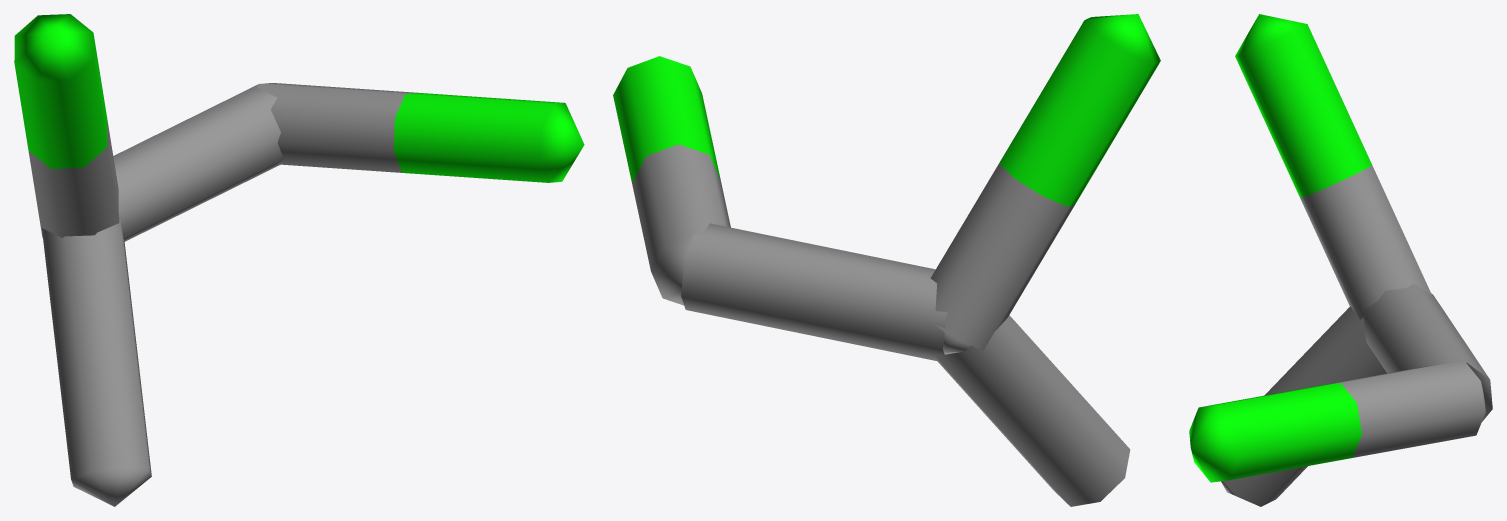
Rendered from dichloro.glb.
3 views of the same model, side by side, from view 1: azimuth 30°, elevation 25°; view 2: azimuth 150°, elevation 25°; view 3: azimuth 270°, elevation 25° (orthographic). The views are drawn at different scales.
Visible parts, largest first — view 1: node-geom5; view 2: node-geom5; view 3: node-geom5.
Boxes of the visible parts, x1=… form: node-geom5: x1=14, y1=14, x2=584, y2=506; node-geom5: x1=613, y1=14, x2=1160, y2=506; node-geom5: x1=1189, y1=14, x2=1492, y2=506.
Size of the model in its own units: 3.63 by 3.08 by 1.84.
